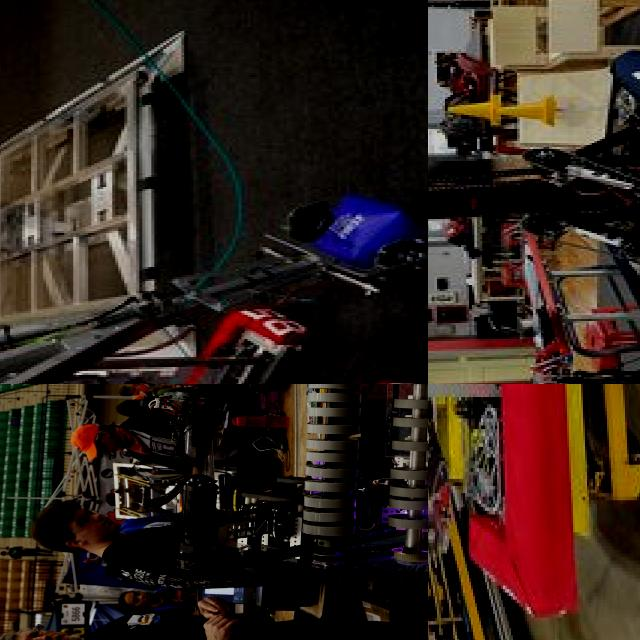FRC-Robots: (0, 197, 428, 384), (428, 25, 640, 357), (172, 384, 428, 640), (428, 384, 585, 629)
